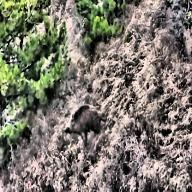boar: (58, 94, 112, 156)
